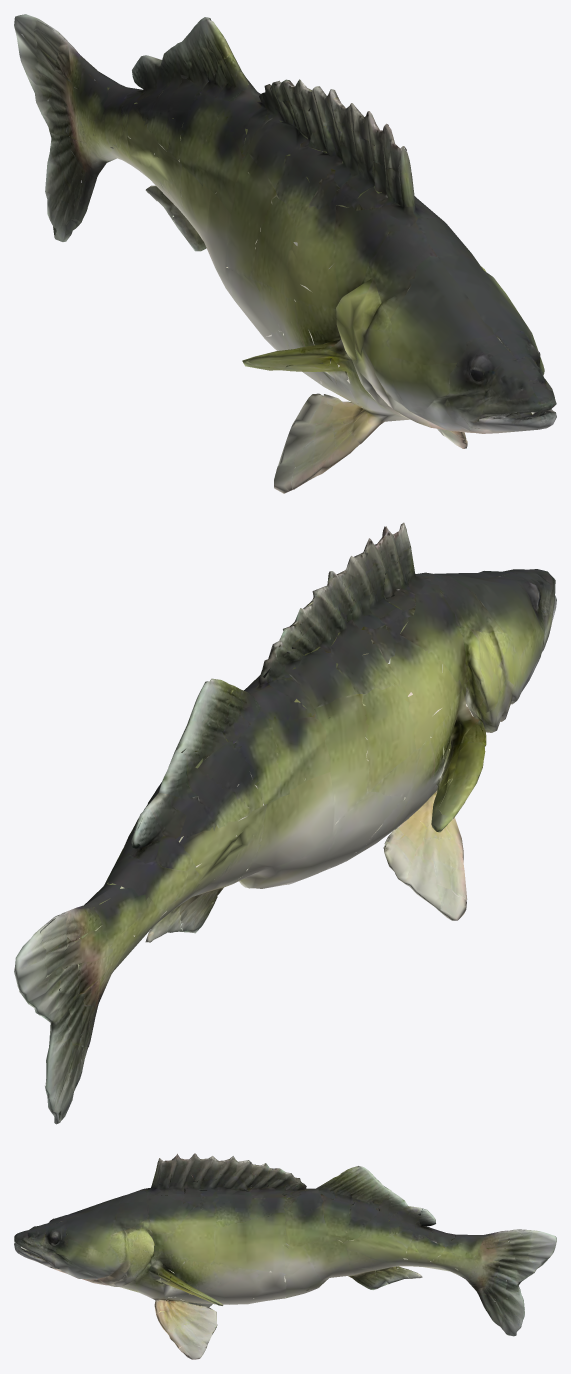
File: snoekbaars.glb
3 views of the same model, one above another, from view 1: azimuth 30°, elevation 25°; view 2: azimuth 150°, elevation 25°; view 3: azimuth 270°, elevation 25° (orthographic). The views are drawn at different scales.
Visible parts, largest first — view 1: Object_4, Object_5; view 2: Object_4, Object_5; view 3: Object_4, Object_5.
Part boxes in pixels (box(x1,y1,x2,y2)): Object_4: box(14, 14, 556, 493); Object_5: box(33, 21, 467, 489); Object_4: box(14, 523, 556, 1111); Object_5: box(40, 523, 486, 1124); Object_4: box(14, 1153, 556, 1359); Object_5: box(156, 1153, 554, 1357).
Size of the model in its own units: 0.4427 by 0.7093 by 1.9.
1 material, 1 textured.
